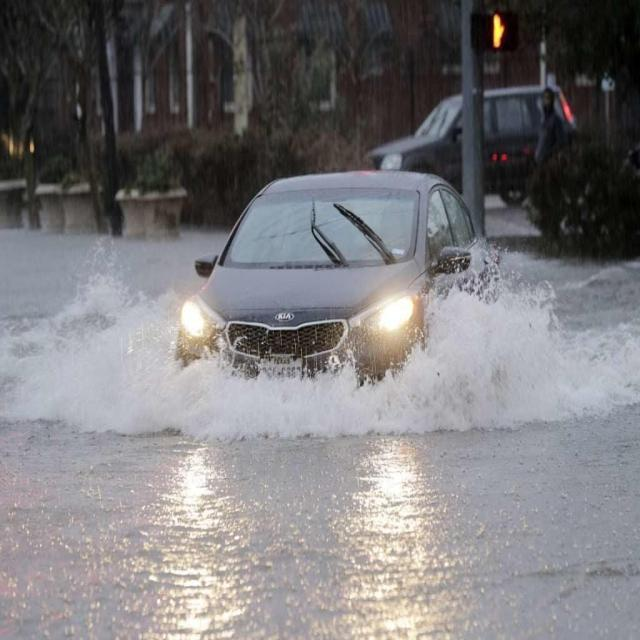water: (2, 200, 637, 638)
